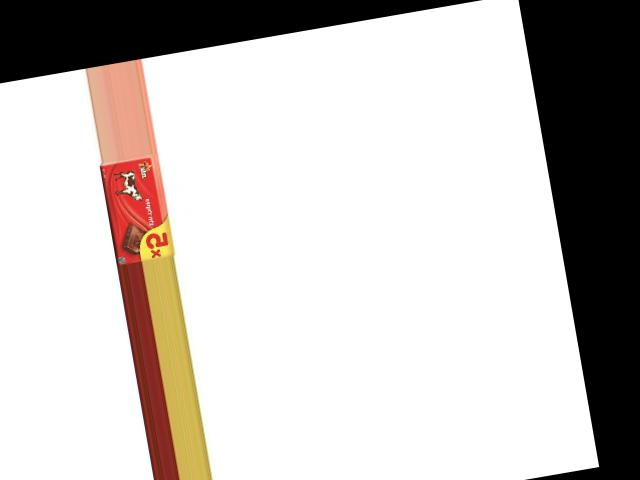chocolate: (99, 152, 177, 265)
